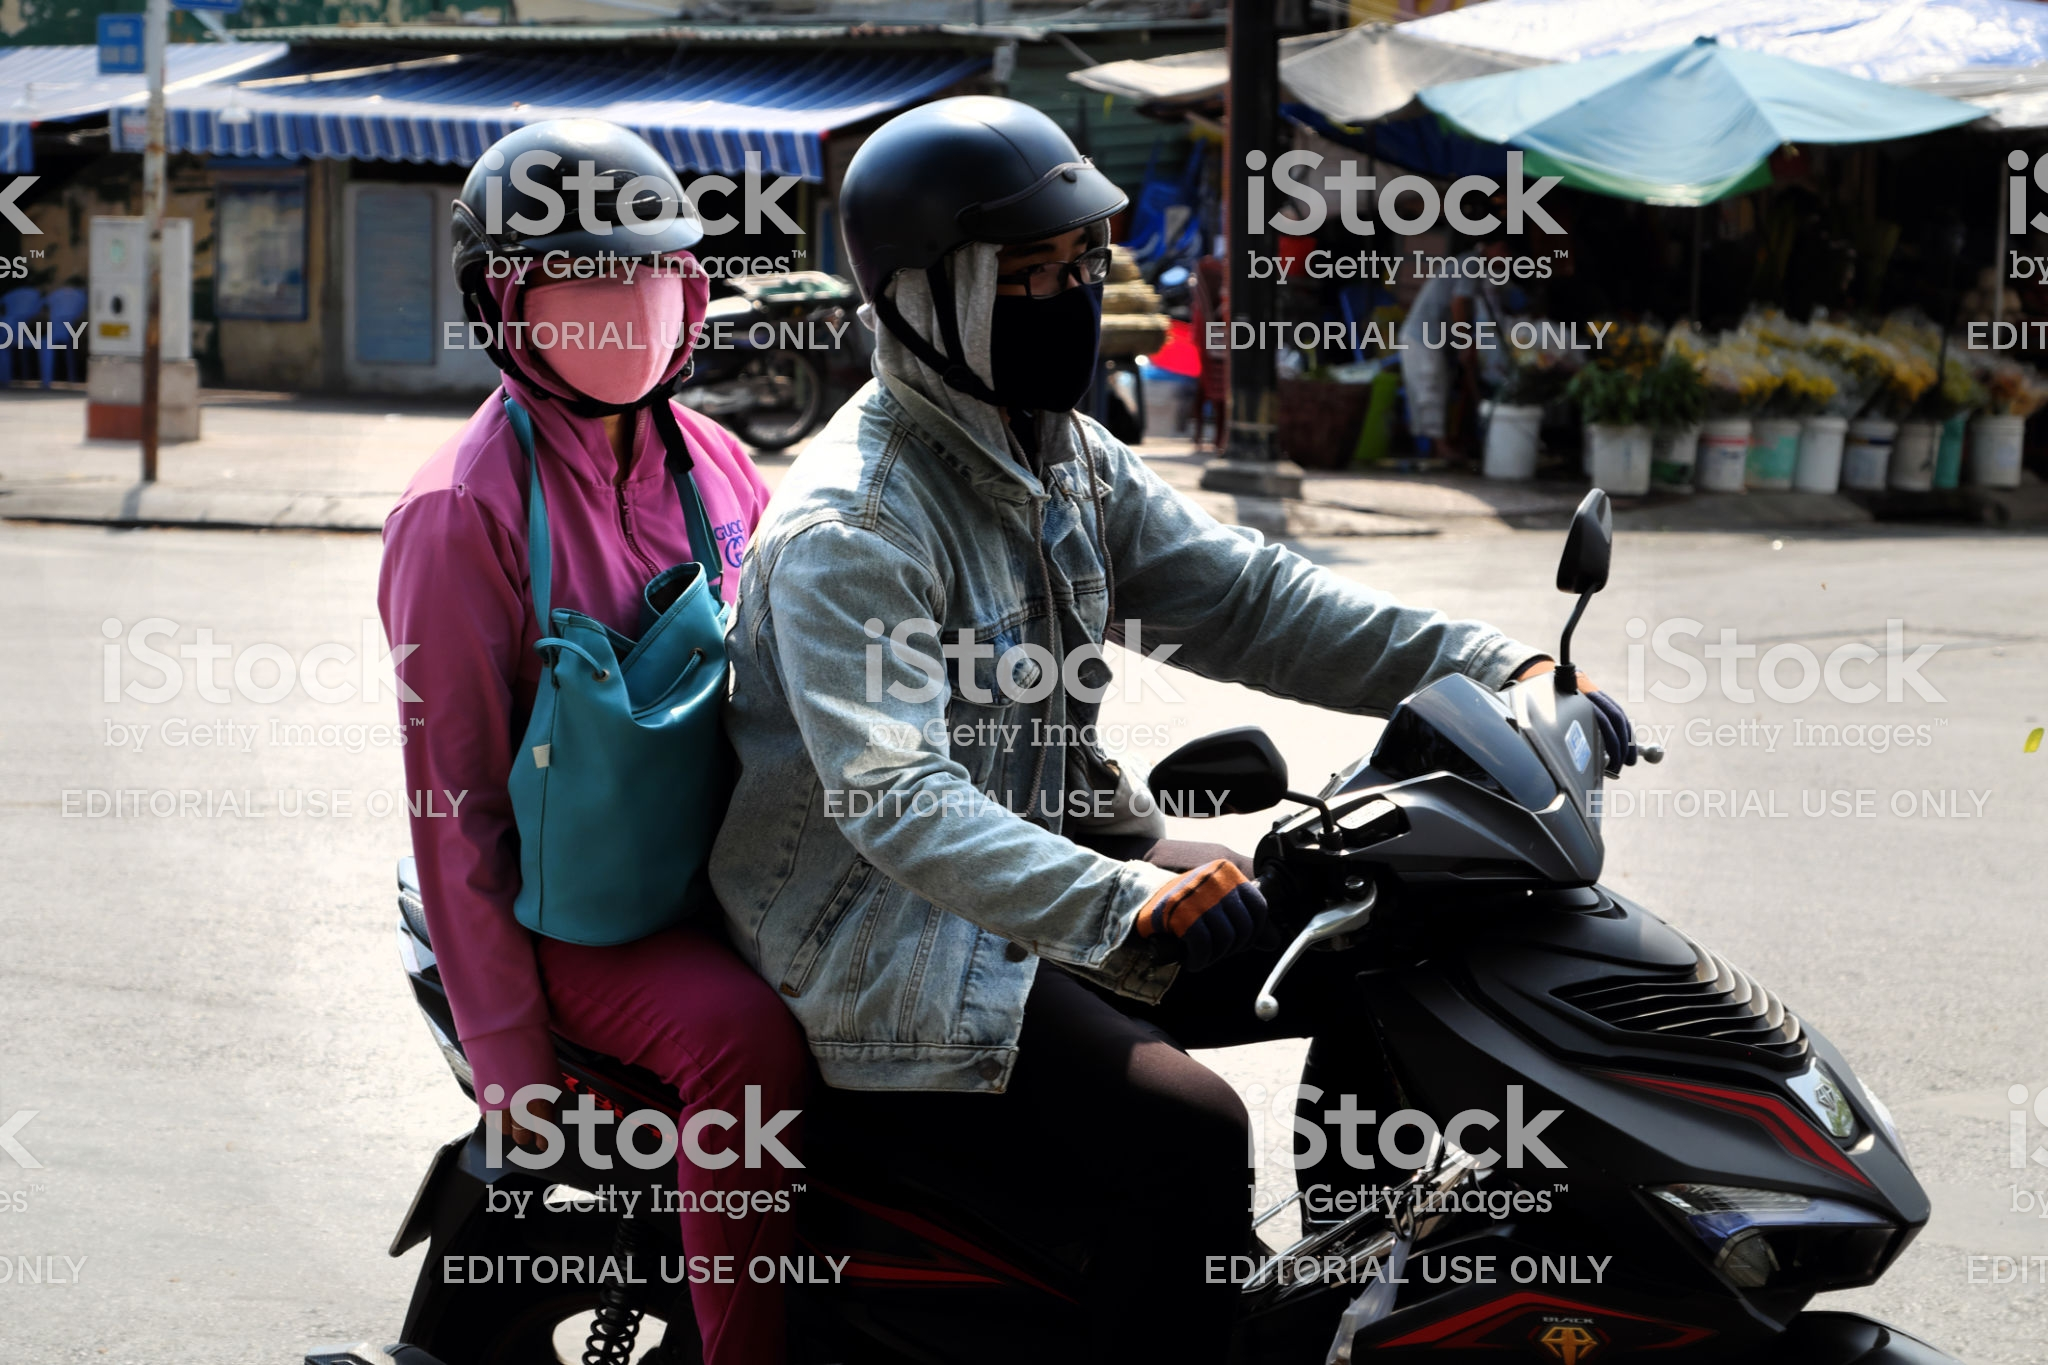helmet: (419, 113, 711, 289), (834, 114, 1148, 265)
